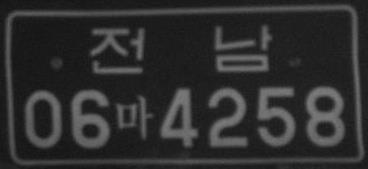0: (23, 88, 63, 150)
2: (206, 85, 249, 149)
4: (159, 86, 199, 148)
5: (255, 85, 296, 149)
6: (69, 88, 111, 149)
8: (304, 85, 347, 147)
마: (115, 94, 154, 140)
전남_D: (90, 25, 273, 74)
